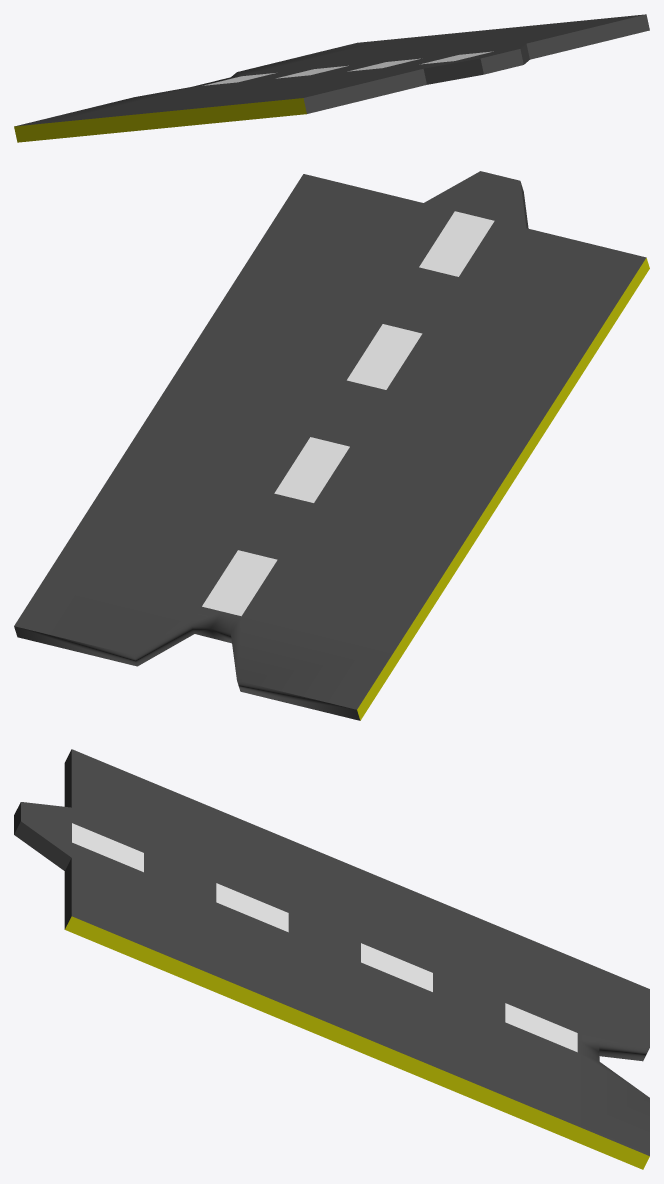
File: Forward ramp 2 (Middle).fbx
3 views of the same model, one above another, from view 1: azimuth 30°, elevation 25°; view 2: azimuth 150°, elevation 25°; view 3: azimuth 270°, elevation 25° (orthographic).
Visible parts, largest first — view 1: forward_ramp_2; view 2: forward_ramp_2; view 3: forward_ramp_2.
Part boxes in pixels (x1,y1,x2,y2): forward_ramp_2: (14,14,649,142); forward_ramp_2: (14,171,649,720); forward_ramp_2: (14,749,649,1169).
Bounding box in the file's own units: 8.53 × 6.54 × 13.71.
